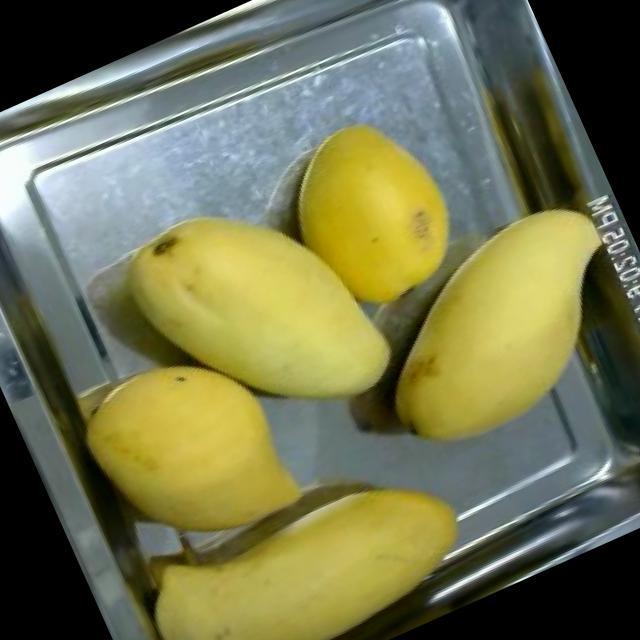fruit: (93, 152, 416, 480), (326, 171, 640, 480), (119, 427, 498, 640), (52, 318, 324, 596), (252, 90, 492, 342)
